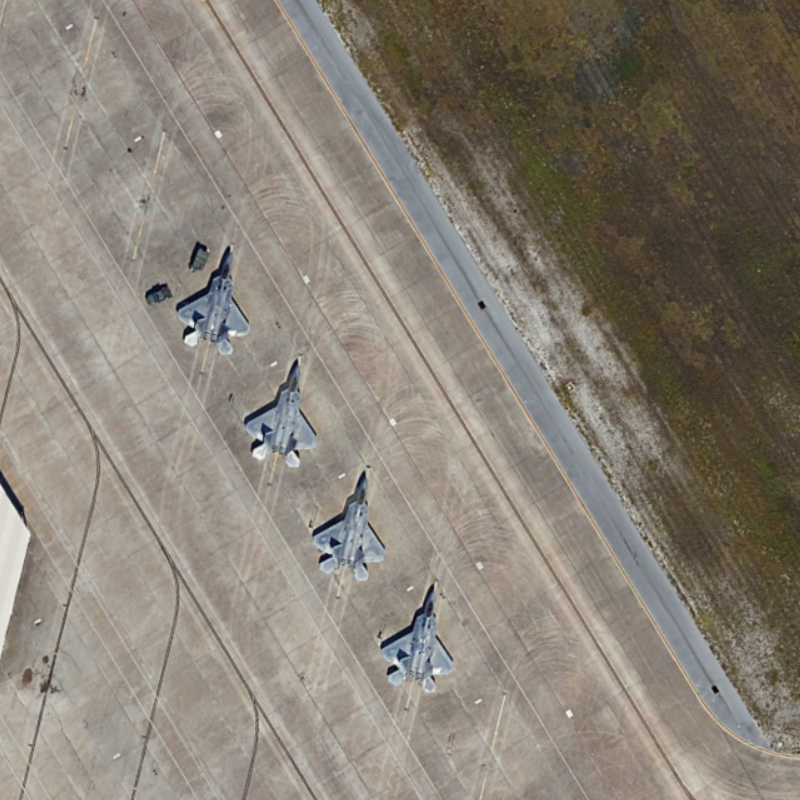A15: (307, 466, 390, 587), (170, 240, 253, 360), (378, 576, 459, 697), (239, 356, 320, 470)
